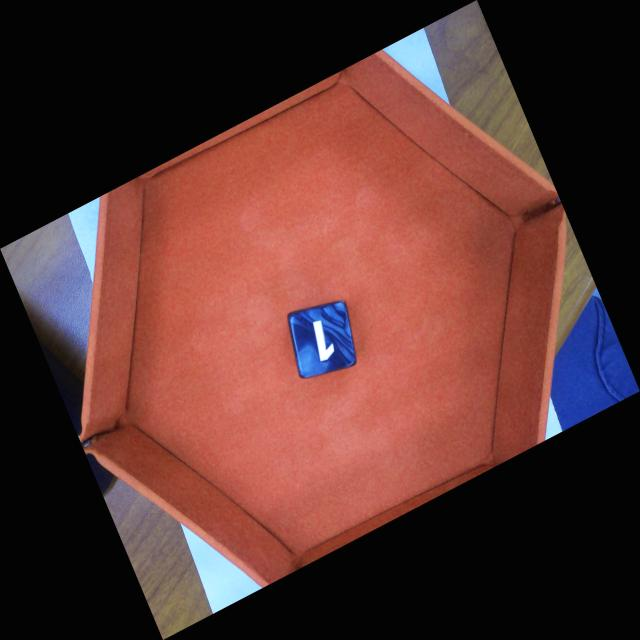dice: (289, 299, 360, 382)
